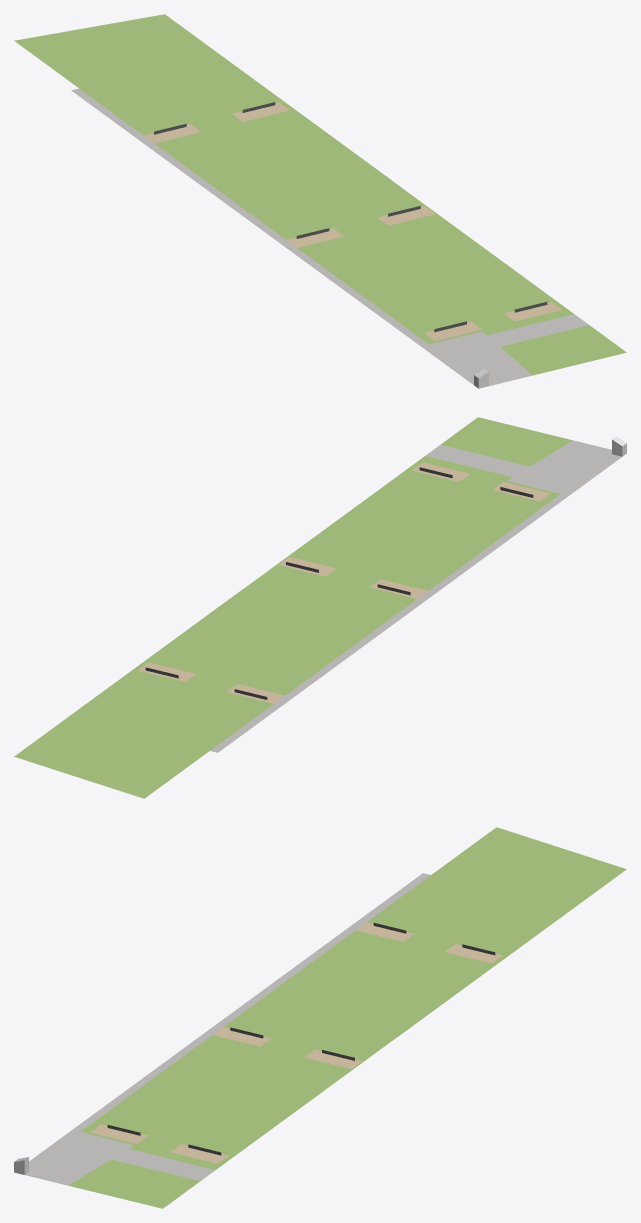
The picture shows the model from 3 angles, top to bottom: view 1: azimuth 30°, elevation 25°; view 2: azimuth 150°, elevation 25°; view 3: azimuth 330°, elevation 25°; orthographic projection.
Parts seen in each view (by area): view 1: imagetostl_mesh29, imagetostl_mesh15, imagetostl_mesh4, imagetostl_mesh16, imagetostl_mesh0, imagetostl_mesh1, imagetostl_mesh3; view 2: imagetostl_mesh29, imagetostl_mesh15, imagetostl_mesh4, imagetostl_mesh16, imagetostl_mesh0, imagetostl_mesh1, imagetostl_mesh3; view 3: imagetostl_mesh29, imagetostl_mesh15, imagetostl_mesh4, imagetostl_mesh16, imagetostl_mesh0, imagetostl_mesh1, imagetostl_mesh3.
Boxes of the visible parts, box(x1,y1,x2,y2) form: imagetostl_mesh29: box(14, 14, 392, 215); imagetostl_mesh15: box(253, 181, 573, 344); imagetostl_mesh4: box(500, 325, 626, 375); imagetostl_mesh16: box(422, 331, 532, 385); imagetostl_mesh0: box(245, 216, 428, 346); imagetostl_mesh1: box(71, 88, 252, 217); imagetostl_mesh3: box(487, 314, 588, 346); imagetostl_mesh29: box(14, 589, 383, 798); imagetostl_mesh15: box(244, 456, 560, 622); imagetostl_mesh4: box(440, 417, 572, 466); imagetostl_mesh16: box(507, 440, 621, 494); imagetostl_mesh0: box(384, 494, 568, 624); imagetostl_mesh1: box(210, 623, 391, 752); imagetostl_mesh3: box(425, 445, 529, 477); imagetostl_mesh29: box(257, 827, 626, 1036); imagetostl_mesh15: box(80, 1003, 396, 1169); imagetostl_mesh4: box(68, 1159, 200, 1208); imagetostl_mesh16: box(25, 1131, 133, 1185); imagetostl_mesh0: box(72, 1001, 256, 1131); imagetostl_mesh1: box(249, 873, 430, 1002); imagetostl_mesh3: box(111, 1148, 215, 1180).
Size of the model in its own units: 1871 by 177 by 10319.
